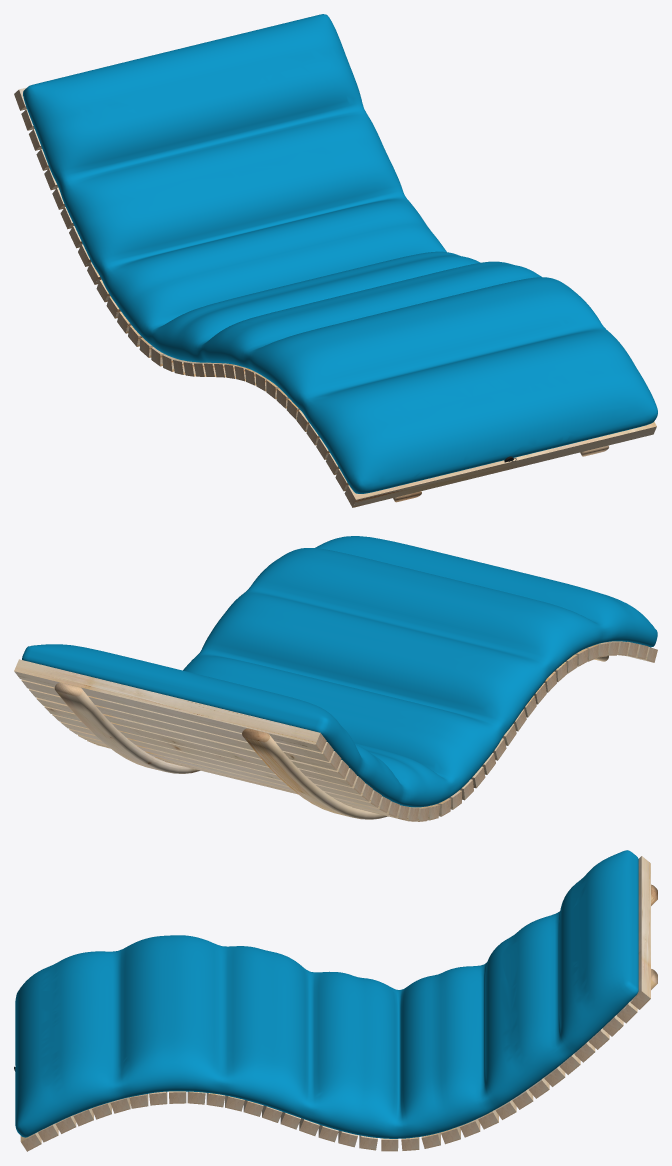
3 views of the same model, one above another, from view 1: azimuth 30°, elevation 25°; view 2: azimuth 150°, elevation 25°; view 3: azimuth 270°, elevation 25° (orthographic). The views are drawn at different scales.
Visible parts, largest first — view 1: air mattress, slatted frame; view 2: air mattress, slatted frame; view 3: air mattress, slatted frame.
Boxes of the visible parts, x1,y1,x2,y2 form: air mattress: (23, 14, 657, 493); slatted frame: (14, 87, 656, 507); air mattress: (22, 536, 657, 807); slatted frame: (14, 641, 657, 821); air mattress: (15, 850, 638, 1138); slatted frame: (20, 856, 657, 1151).
Bounding box in the file's own units: 1.02 × 0.6124 × 2.01.
5 materials, 2 textured.
